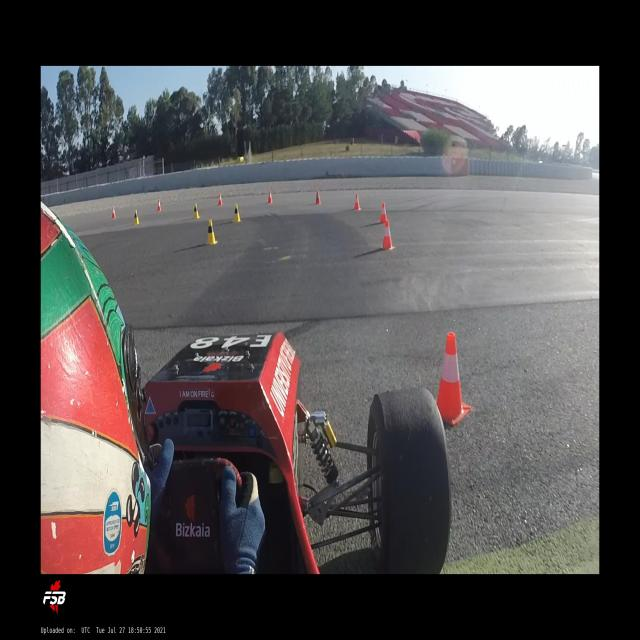orange_cone: (437, 332, 471, 424), (380, 219, 396, 250), (379, 202, 388, 222), (353, 194, 361, 211), (315, 190, 321, 204), (267, 190, 273, 203), (111, 206, 116, 218), (218, 193, 222, 206), (157, 200, 161, 211)
yellow_cone: (207, 220, 217, 244), (232, 203, 242, 223), (193, 203, 200, 219), (133, 210, 139, 226)
